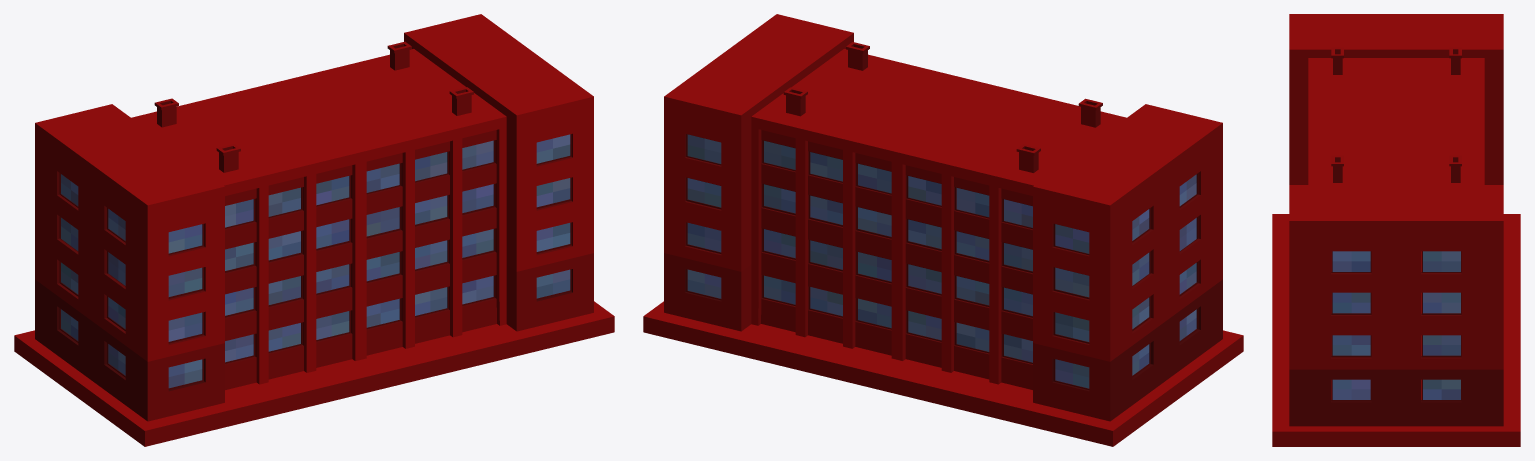
File: buildings-industrial-factory_v2.fbx
3 views of the same model, side by side, from view 1: azimuth 30°, elevation 25°; view 2: azimuth 150°, elevation 25°; view 3: azimuth 270°, elevation 25° (orthographic). The views are drawn at different scales.
Parts seen in each view (by area): view 1: Factory_v2_base, Factory_v2_windowRefl; view 2: Factory_v2_base, Factory_v2_windowRefl; view 3: Factory_v2_base, Factory_v2_windowRefl.
Boxes of the visible parts, box(x1,y1,x2,y2) form: Factory_v2_base: box(14, 14, 614, 446); Factory_v2_windowRefl: box(61, 134, 570, 388); Factory_v2_base: box(643, 14, 1243, 446); Factory_v2_windowRefl: box(687, 134, 1196, 388); Factory_v2_base: box(1272, 14, 1520, 446); Factory_v2_windowRefl: box(1332, 251, 1460, 399).
Bounding box in the file's own units: 48.35 × 24.04 × 23.28.
